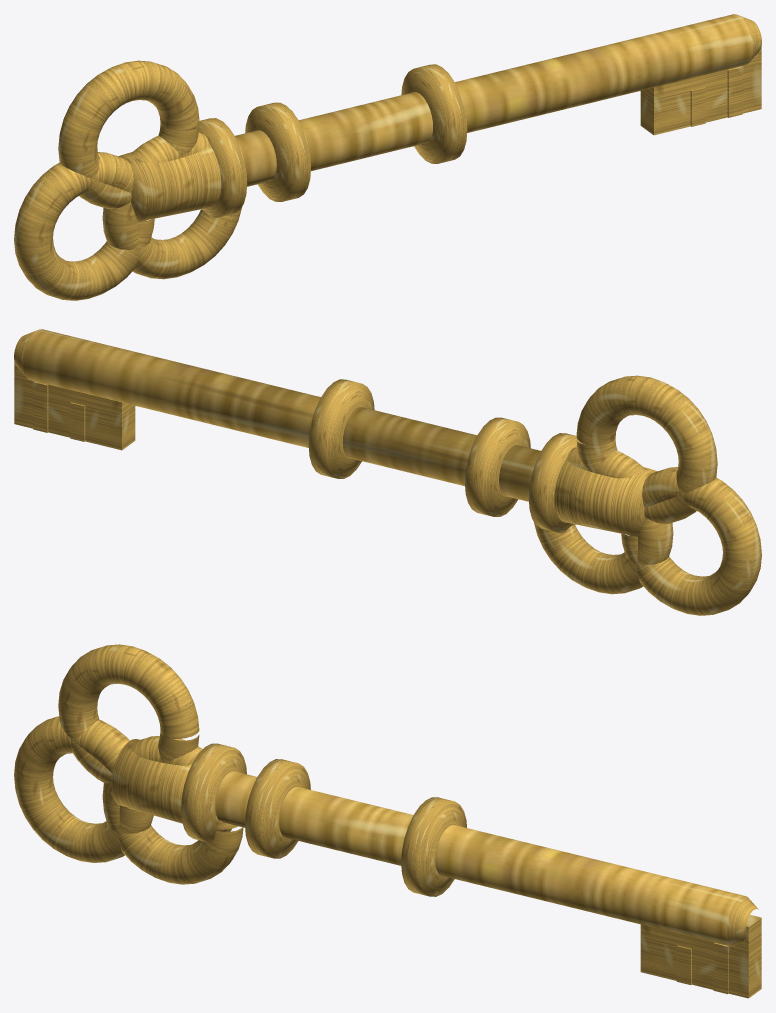
The model's file is prop_key_gold.glb.
3 renders of one model, top to bottom at view 1: azimuth 30°, elevation 25°; view 2: azimuth 150°, elevation 25°; view 3: azimuth 330°, elevation 25°, orthographic.
Parts seen in each view (by area): view 1: prop_key_gold; view 2: prop_key_gold; view 3: prop_key_gold.
Boxes of the visible parts, x1,y1,x2,y2 form: prop_key_gold: (14,14,761,300); prop_key_gold: (14,329,761,615); prop_key_gold: (14,644,761,998).
Size of the model in its own units: 0.052 by 0.015 by 0.006.
1 material, 1 textured.
